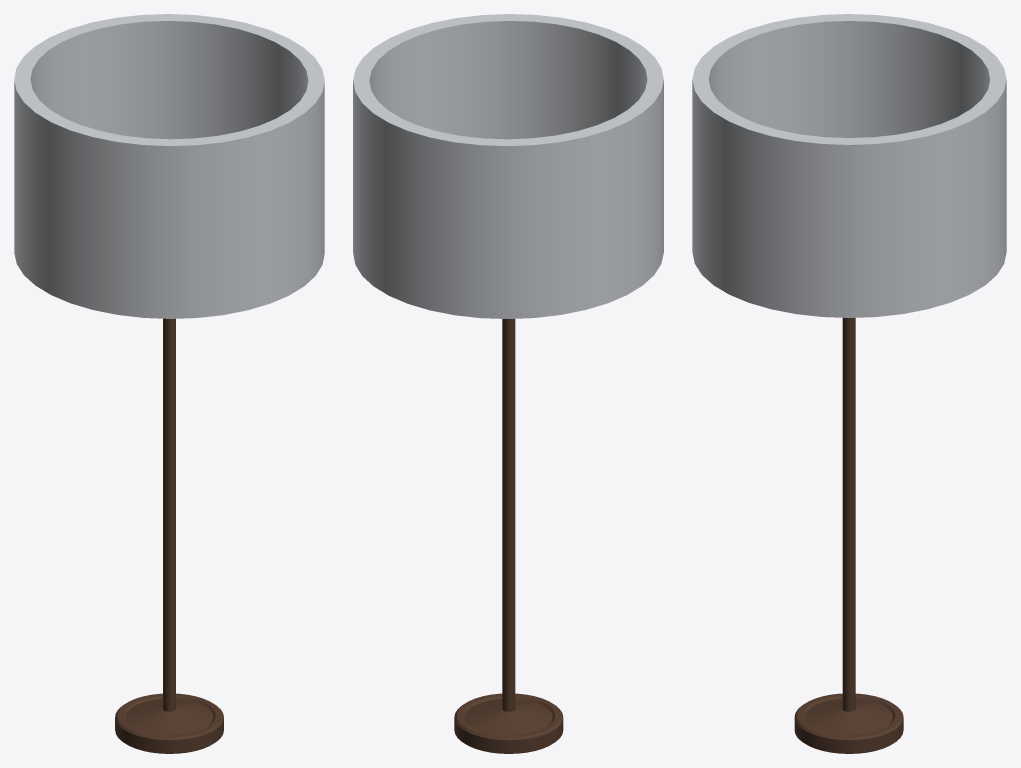
Rendered from abajur.fbx.
The picture shows the model from 3 angles, left to right: view 1: azimuth 30°, elevation 25°; view 2: azimuth 150°, elevation 25°; view 3: azimuth 270°, elevation 25°; orthographic projection.
Visible parts, largest first — view 1: Cylinder_5, Cylinder_3; view 2: Cylinder_5, Cylinder_3; view 3: Cylinder_5, Cylinder_3.
Boxes of the visible parts, left/top/right/bottom form: Cylinder_5: left=14, top=14, right=324, bottom=318; Cylinder_3: left=115, top=318, right=223, bottom=753; Cylinder_5: left=353, top=14, right=663, bottom=318; Cylinder_3: left=454, top=319, right=563, bottom=753; Cylinder_5: left=692, top=14, right=1006, bottom=317; Cylinder_3: left=794, top=317, right=903, bottom=753.
Size of the model in its own units: 68.26 by 159 by 69.17.
